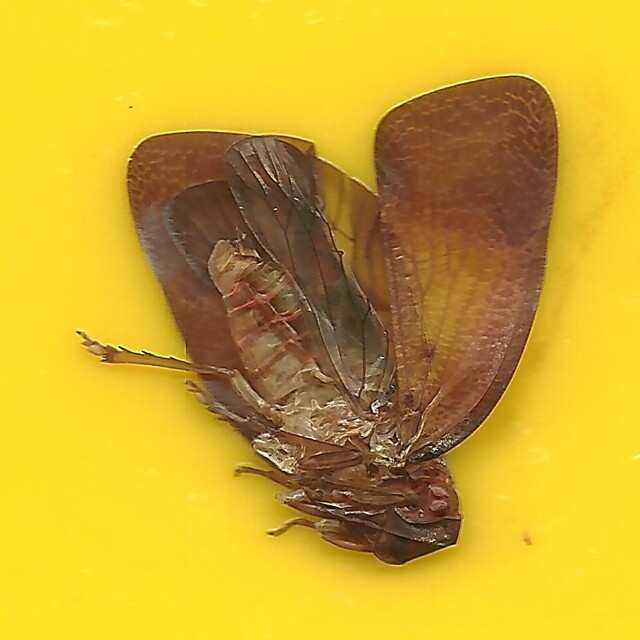Hemiptera: (78, 74, 562, 566)
